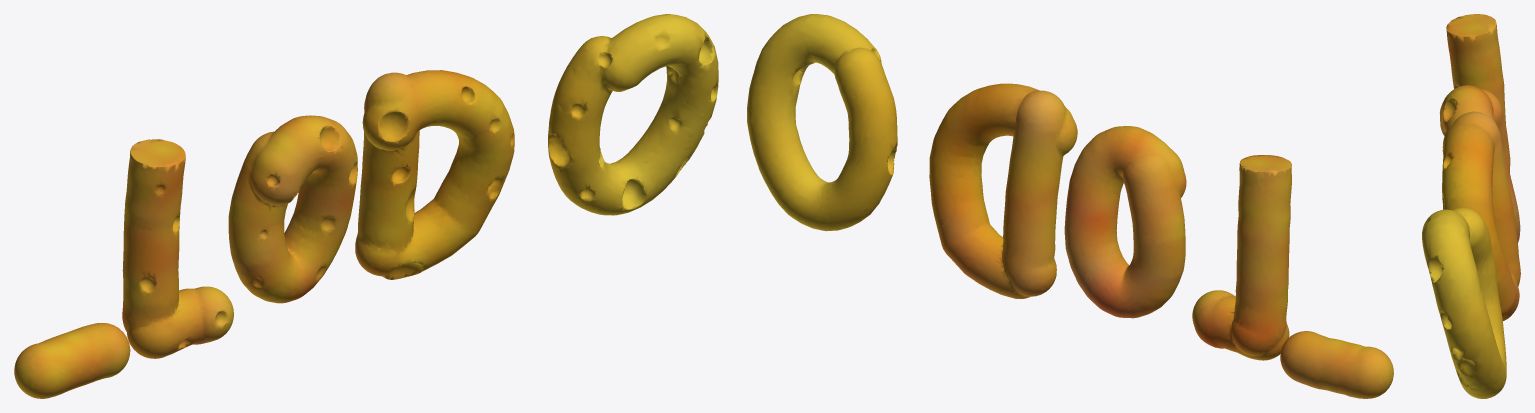
Rendered from SimpleLODs_Example.fbx.
3 views of the same model, side by side, from view 1: azimuth 30°, elevation 25°; view 2: azimuth 150°, elevation 25°; view 3: azimuth 270°, elevation 25° (orthographic). The views are drawn at different scales.
Parts seen in each view (by area): view 1: Test_LOD0; view 2: Test_LOD0; view 3: Test_LOD0.
Boxes of the visible parts, x1=… form: Test_LOD0: x1=14, y1=14, x2=718, y2=398; Test_LOD0: x1=747, y1=14, x2=1393, y2=398; Test_LOD0: x1=1422, y1=14, x2=1520, y2=398.
Size of what is drawn, in the model's own units: 509 by 174 by 69.79.
